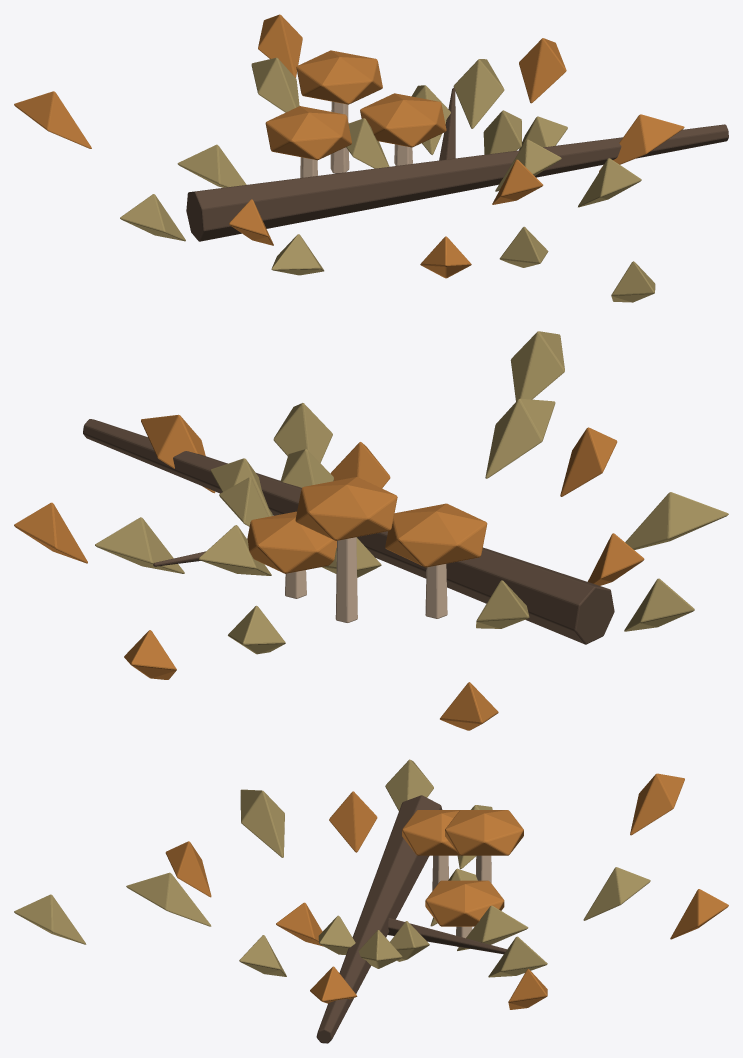
File: forest_floor.glb
The picture shows the model from 3 angles, top to bottom: view 1: azimuth 30°, elevation 25°; view 2: azimuth 150°, elevation 25°; view 3: azimuth 270°, elevation 25°; orthographic projection. The views are drawn at different scales.
Parts seen in each view (by area): view 1: FallenLeaf.004, FallenLeaf.005, FallenBranch.002, MushroomStem.003; view 2: FallenLeaf.004, FallenLeaf.005, FallenBranch.002, MushroomStem.003; view 3: FallenLeaf.004, FallenLeaf.005, FallenBranch.002, MushroomStem.003.
Boxes of the visible parts, left/top/right/bottom form: FallenLeaf.004: left=14, top=14, right=684, bottom=278; FallenLeaf.005: left=120, top=57, right=655, bottom=302; FallenBranch.002: left=186, top=88, right=728, bottom=241; MushroomStem.003: left=300, top=101, right=412, bottom=177; FallenLeaf.004: left=14, top=414, right=644, bottom=730; FallenLeaf.005: left=95, top=331, right=728, bottom=654; FallenBranch.002: left=83, top=419, right=614, bottom=644; MushroomStem.003: left=285, top=537, right=447, bottom=622; FallenLeaf.004: left=165, top=773, right=728, bottom=1009; FallenLeaf.005: left=14, top=759, right=650, bottom=977; FallenBranch.002: left=316, top=795, right=506, bottom=1043; MushroomStem.003: left=432, top=855, right=491, bottom=947.
Size of the model in its own units: 1.58 by 0.305 by 1.83.
